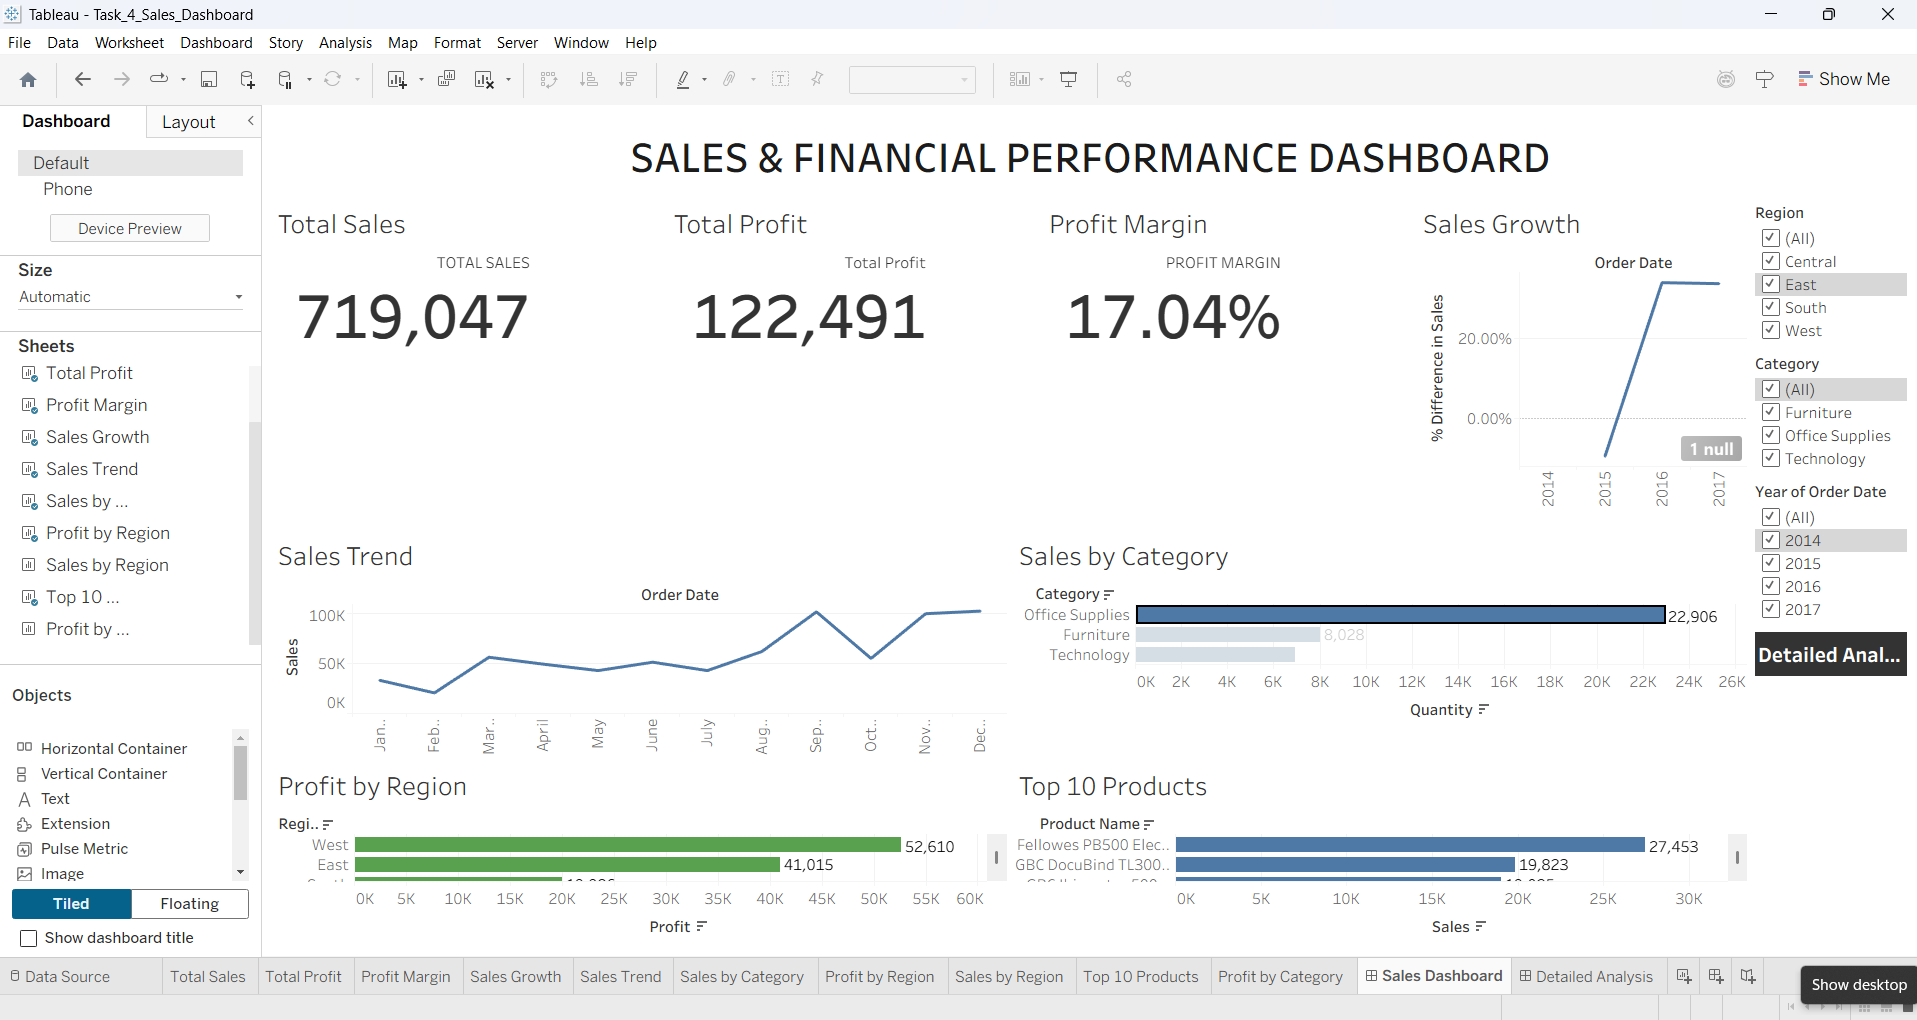

The page's visual inventory and layout, read from the dashboard file:
{"tool":"tableau","page":{"name":"Sales Dashboard","canvas":[1000,1000],"units":"permille","ordinal":1},"visuals":[{"type":"text","box":[4.8,9.4,990.3,99.9]},{"type":"worksheet","title":"Total Sales","mark":"Automatic","box":[4.8,109.3,238.9,390.1]},{"type":"worksheet","title":"Total Profit","mark":"Automatic","box":[243.7,109.3,226.2,390.1]},{"type":"worksheet","title":"Profit Margin","mark":"Automatic","box":[469.9,109.3,226.2,390.1]},{"type":"worksheet","title":"Sales Growth","mark":"Automatic","rows":["Sales"],"cols":["Order Date"],"box":[696.1,109.3,202.6,390.1]},{"type":"filter","title":"Sales Trend","param":"[federated.1bbwyk90vp2ege18dg5my0c4wxmg].[none:Region:nk]","box":[898.6,109.3,96.6,177.4]},{"type":"filter","title":"Sales Trend","param":"[federated.1bbwyk90vp2ege18dg5my0c4wxmg].[none:Category:nk]","box":[898.6,286.7,96.6,150.4]},{"type":"filter","title":"Sales Trend","param":"[federated.1bbwyk90vp2ege18dg5my0c4wxmg].[yr:Order Date:ok]","box":[898.6,437.1,96.6,177.4]},{"type":"worksheet","title":"Sales Trend","mark":"Line","rows":["Sales"],"cols":["Order Date"],"box":[4.8,499.4,446.9,270.4]},{"type":"worksheet","title":"Sales by Category","mark":"Bar","rows":["Category"],"cols":["Quantity"],"box":[451.7,499.4,446.9,270.4]},{"type":"dashboard-object","box":[898.6,614.6,96.6,61.1]},{"type":"worksheet","title":"Profit by Region","mark":"Bar","rows":["Region"],"cols":["Profit"],"box":[4.8,769.8,446.9,220.8]},{"type":"worksheet","title":"Top 10 Products","mark":"Automatic","rows":["Product Name"],"cols":["Sales"],"box":[451.7,769.8,446.9,220.8]}]}

Visuals, with their boxes on the dashboard's canvas, which has no fixed pixel size, in thousandths of its width and height (x1, y1, x2, y2). These are canvas units, not pixel positions in the 1917x1020 screenshot, which may show the page scaled, cropped or inside an application window:
text: 5:9:995:109
"Total Sales" worksheet: 5:109:244:499
"Total Profit" worksheet: 244:109:470:499
"Profit Margin" worksheet: 470:109:696:499
"Sales Growth" worksheet: 696:109:899:499
"Sales Trend" filter: 899:109:995:287
"Sales Trend" filter: 899:287:995:437
"Sales Trend" filter: 899:437:995:614
"Sales Trend" worksheet (Line marks): 5:499:452:770
"Sales by Category" worksheet (Bar marks): 452:499:899:770
dashboard-object: 899:615:995:676
"Profit by Region" worksheet (Bar marks): 5:770:452:991
"Top 10 Products" worksheet: 452:770:899:991
